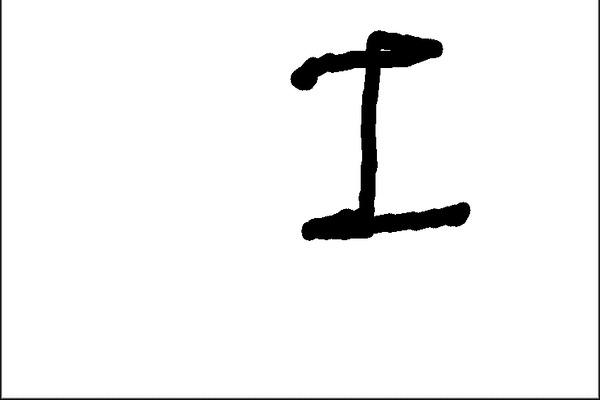i: (273, 16, 480, 249)
